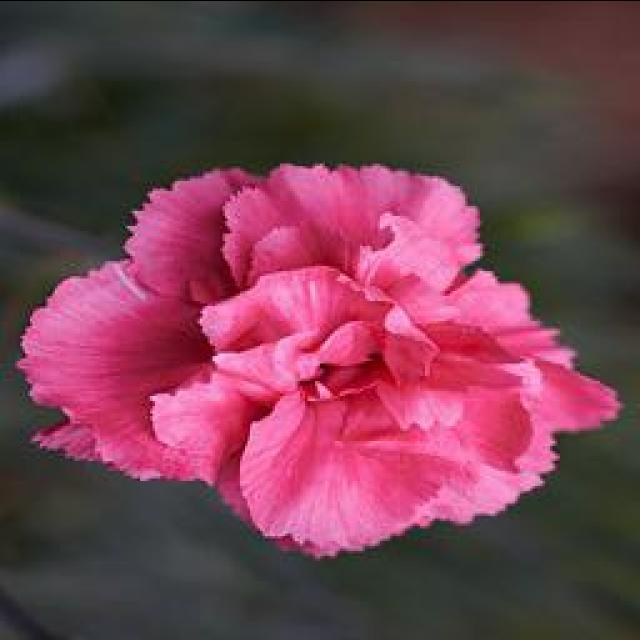carnation: (0, 128, 617, 580)
